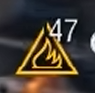1fire: (10, 45, 82, 77)
